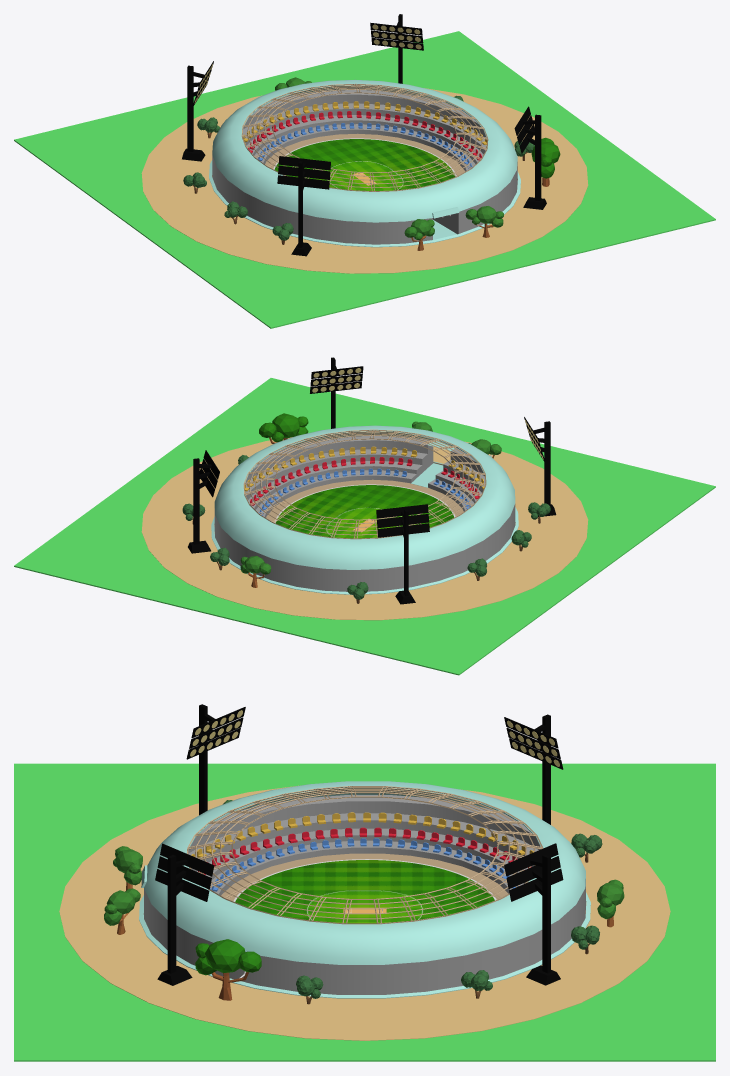
The model's file is cricket_stadium.glb.
The picture shows the model from 3 angles, top to bottom: view 1: azimuth 30°, elevation 25°; view 2: azimuth 150°, elevation 25°; view 3: azimuth 270°, elevation 25°; orthographic projection. The views are drawn at different scales.
Parts seen in each view (by area): view 1: Plane.013, Circle.005, Circle.001, Circle, Circle.021, Cube.002, Cube.001, Cube.004, Cube.006, Cube.021, Cube.005; view 2: Plane.013, Circle.005, Circle.001, Circle, Circle.021, Cube.001, Cube.002, Cube.003, Cube.006, Cube.005, Cube.021, Icosphere; view 3: Plane.013, Circle.005, Circle.001, Circle, Circle.021, Cube.002, Cube.004, Cube.001, Cube.003, Cube.006, Icosphere, Cube.005 (+3 smaller).
Part boxes in pixels (x1=…): Plane.013: x1=14, y1=31, x2=715, y2=328; Circle.005: x1=209, y1=79, x2=520, y2=247; Circle.001: x1=141, y1=88, x2=588, y2=273; Circle: x1=274, y1=139, x2=455, y2=190; Circle.021: x1=241, y1=83, x2=488, y2=191; Cube.002: x1=243, y1=101, x2=487, y2=147; Cube.001: x1=248, y1=111, x2=481, y2=160; Cube.004: x1=523, y1=114, x2=546, y2=209; Cube.006: x1=257, y1=122, x2=472, y2=168; Cube.021: x1=182, y1=65, x2=205, y2=161; Cube.005: x1=291, y1=161, x2=311, y2=256; Plane.013: x1=14, y1=378, x2=715, y2=675; Circle.005: x1=211, y1=425, x2=518, y2=594; Circle.001: x1=141, y1=437, x2=588, y2=620; Circle: x1=276, y1=485, x2=454, y2=538; Circle.021: x1=243, y1=429, x2=486, y2=539; Cube.001: x1=250, y1=456, x2=479, y2=505; Cube.002: x1=244, y1=446, x2=484, y2=493; Cube.003: x1=188, y1=458, x2=211, y2=553; Cube.006: x1=259, y1=468, x2=470, y2=515; Cube.005: x1=533, y1=421, x2=556, y2=516; Cube.021: x1=395, y1=509, x2=415, y2=604; Icosphere: x1=272, y1=413, x2=300, y2=438; Plane.013: x1=14, y1=763, x2=715, y2=1061; Circle.005: x1=139, y1=781, x2=590, y2=998; Circle.001: x1=59, y1=785, x2=670, y2=1040; Circle: x1=235, y1=860, x2=494, y2=923; Circle.021: x1=187, y1=786, x2=543, y2=924; Cube.002: x1=191, y1=812, x2=535, y2=865; Cube.004: x1=157, y1=855, x2=192, y2=985; Cube.001: x1=198, y1=827, x2=531, y2=874; Cube.003: x1=526, y1=854, x2=560, y2=985; Cube.006: x1=210, y1=838, x2=518, y2=891; Icosphere: x1=204, y1=939, x2=245, y2=972; Cube.005: x1=199, y1=704, x2=215, y2=815.
Bounding box in the file's own units: 46.29 × 9.18 × 46.29.
Materials: 30 (2 with a texture image).
